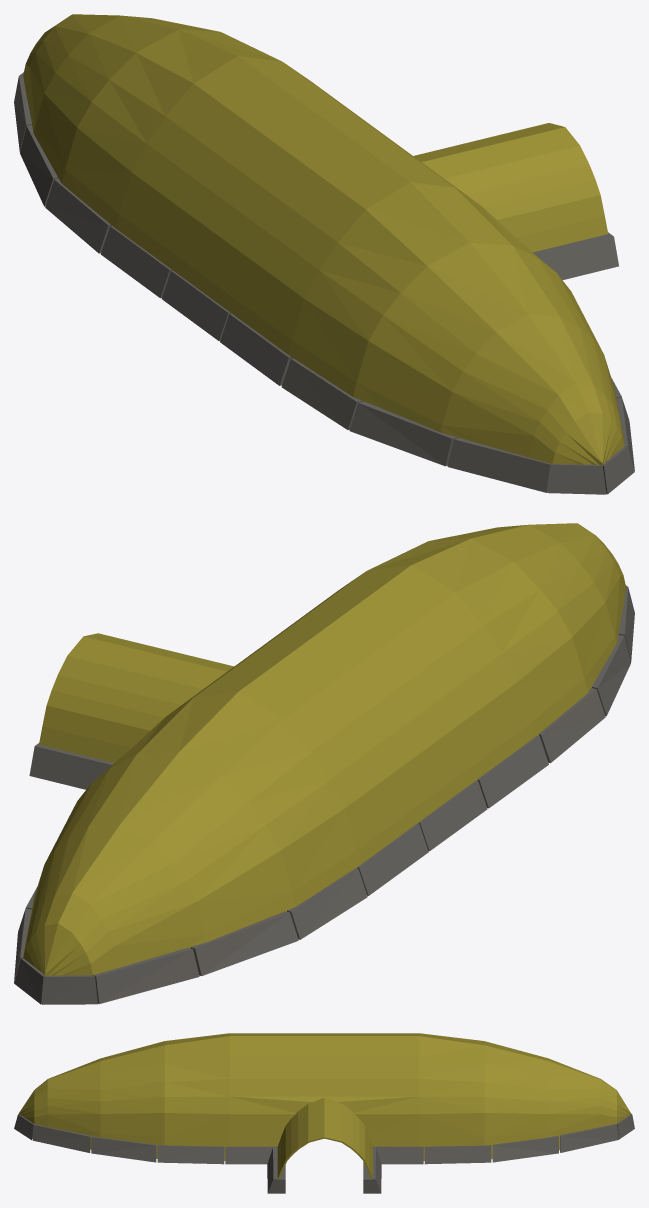
The model's file is Strohhaus 3 (stones visible).fbx.
The picture shows the model from 3 angles, top to bottom: view 1: azimuth 30°, elevation 25°; view 2: azimuth 150°, elevation 25°; view 3: azimuth 270°, elevation 25°; orthographic projection. The views are drawn at different scales.
Visible parts, largest first — view 1: Strohhaus 1; view 2: Strohhaus 1; view 3: Strohhaus 1.
Part boxes in pixels (box(x1,y1,x2,y2)): Strohhaus 1: box(14, 14, 634, 494); Strohhaus 1: box(14, 523, 634, 1004); Strohhaus 1: box(14, 1033, 634, 1193).
Size of the model in its own units: 436 by 186 by 1131.
